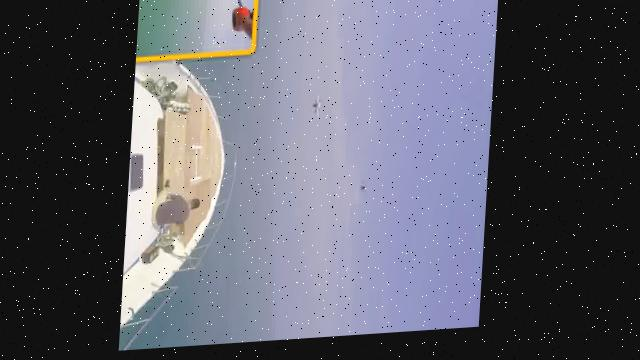drone: (308, 98, 330, 123), (360, 183, 377, 204)
